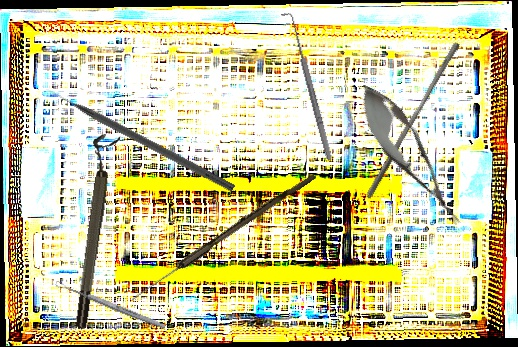Fixation Ring: (63, 132, 121, 330)
Hook Surgical: (43, 83, 237, 194), (280, 9, 335, 164)
Micro Scissor: (345, 74, 476, 236)
Pusher: (365, 37, 461, 204)
Surgical Spoon: (130, 169, 316, 305), (54, 279, 167, 331)
